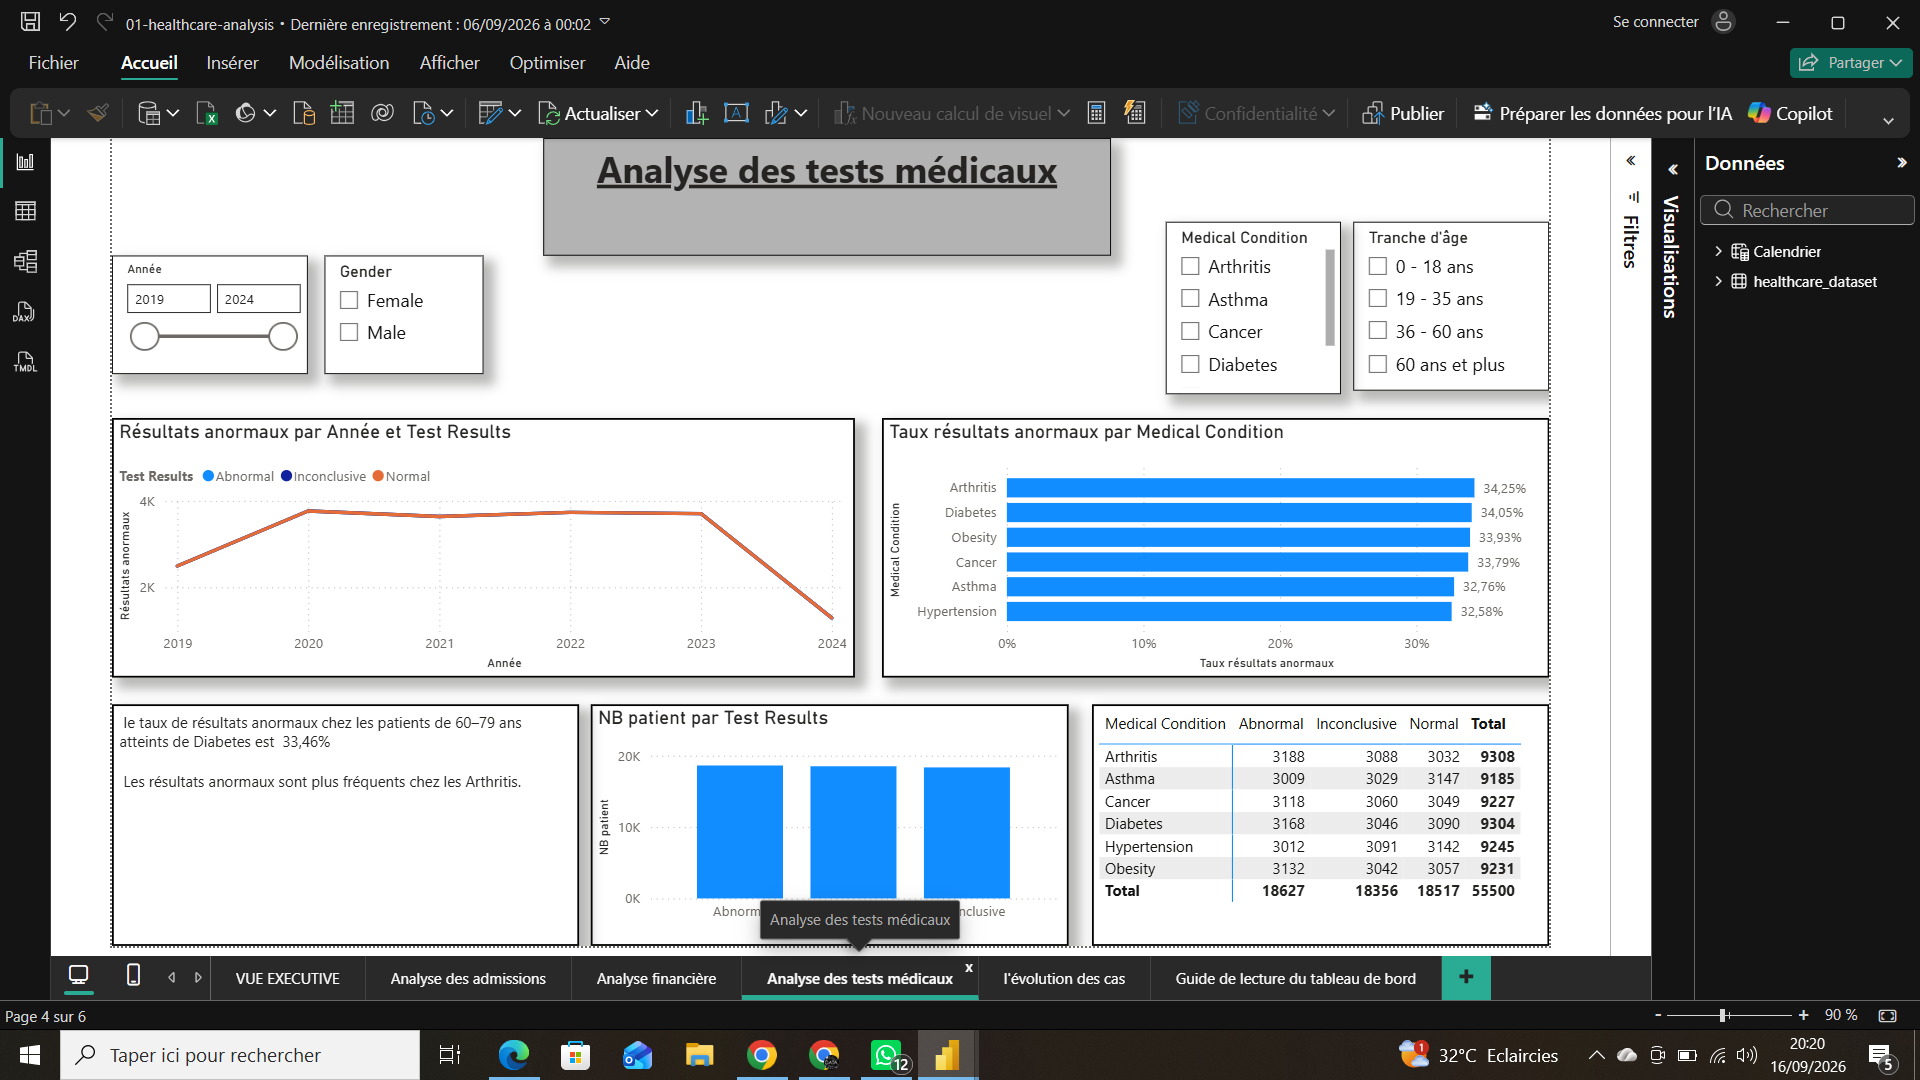

What the dashboard file says about the page in this screenshot:
{"tool":"powerbi","page":{"name":"Analyse des tests médicaux","canvas":[1280,720],"ordinal":3},"visuals":[{"type":"textbox","box":[383.7,0,505.8,104.7],"z":0},{"type":"clusteredColumnChart","fields":{"Y":["healthcare_dataset.NB patient"],"Category":["healthcare_dataset.Test Results"]},"box":[426.7,504.7,425.6,215.1],"z":1000},{"type":"clusteredBarChart","fields":{"Y":["healthcare_dataset.Taux résultats anormaux"],"Category":["healthcare_dataset.Medical Condition"]},"box":[686,248.8,594.2,231.4],"z":2000},{"type":"pivotTable","fields":{"Rows":["healthcare_dataset.Medical Condition"],"Columns":["healthcare_dataset.Test Results"],"Values":["healthcare_dataset.NB patient"]},"box":[873.3,504.7,407,215.1],"z":3000},{"type":"lineChart","fields":{"Y":["healthcare_dataset.Résultats anormaux"],"Category":["Calendrier.Date.Variation.Hiérarchie de dates.Année"],"Series":["healthcare_dataset.Test Results"]},"box":[0,248.8,661.6,231.4],"z":4000},{"type":"textbox","box":[0,504.7,416.3,215.1],"z":5000},{"type":"slicer","fields":{"Values":["healthcare_dataset.Tranche d'âge"]},"box":[1105.8,74.4,174.4,150],"z":6000},{"type":"slicer","fields":{"Values":["Calendrier.Année"]},"box":[0,104.7,174.4,105.8],"z":7000},{"type":"slicer","fields":{"Values":["healthcare_dataset.Medical Condition"]},"box":[938.4,74.4,155.8,153.5],"z":8000},{"type":"slicer","fields":{"Values":["healthcare_dataset.Gender"]},"box":[189.5,104.7,141.9,105.8],"z":9000}]}

Visuals, with their boxes on the page's 1280x720 design canvas (x1, y1, x2, y2). These are canvas units, not pixel positions in the 1920x1080 screenshot, which may show the page scaled, cropped or inside an application window:
textbox: pyautogui.locateOnScreen(384, 0, 890, 105)
clusteredColumnChart - healthcare_dataset.NB patient x healthcare_dataset.Test Results: pyautogui.locateOnScreen(427, 505, 852, 720)
clusteredBarChart - healthcare_dataset.Taux résultats anormaux x healthcare_dataset.Medical Condition: pyautogui.locateOnScreen(686, 249, 1280, 480)
pivotTable - healthcare_dataset.Medical Condition x healthcare_dataset.Test Results: pyautogui.locateOnScreen(873, 505, 1280, 720)
lineChart - healthcare_dataset.Résultats anormaux x Calendrier.Date.Variation.Hiérarchie de dates.Année: pyautogui.locateOnScreen(0, 249, 662, 480)
textbox: pyautogui.locateOnScreen(0, 505, 416, 720)
slicer - healthcare_dataset.Tranche d'âge: pyautogui.locateOnScreen(1106, 74, 1280, 224)
slicer - Calendrier.Année: pyautogui.locateOnScreen(0, 105, 174, 210)
slicer - healthcare_dataset.Medical Condition: pyautogui.locateOnScreen(938, 74, 1094, 228)
slicer - healthcare_dataset.Gender: pyautogui.locateOnScreen(190, 105, 331, 210)
